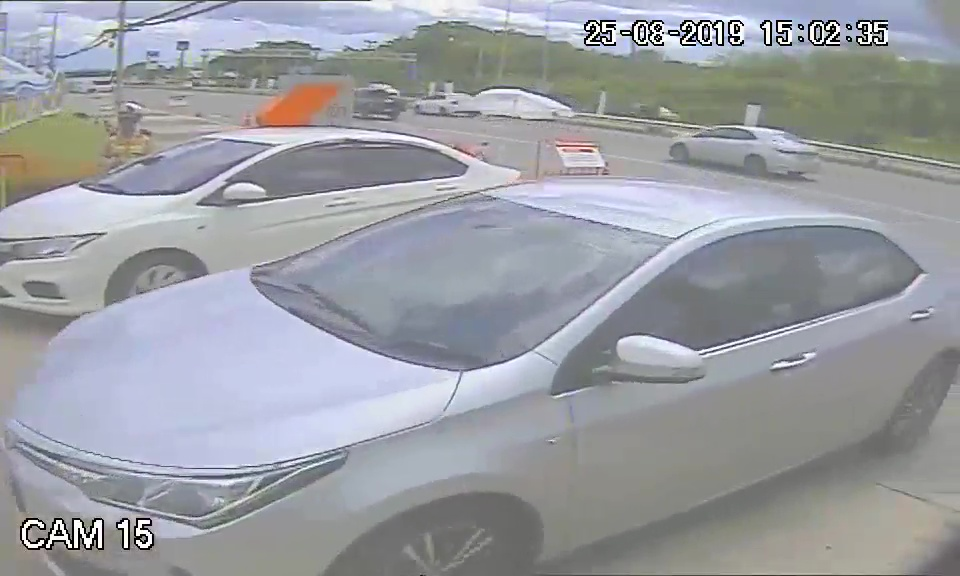sedan: (7, 180, 949, 571)
